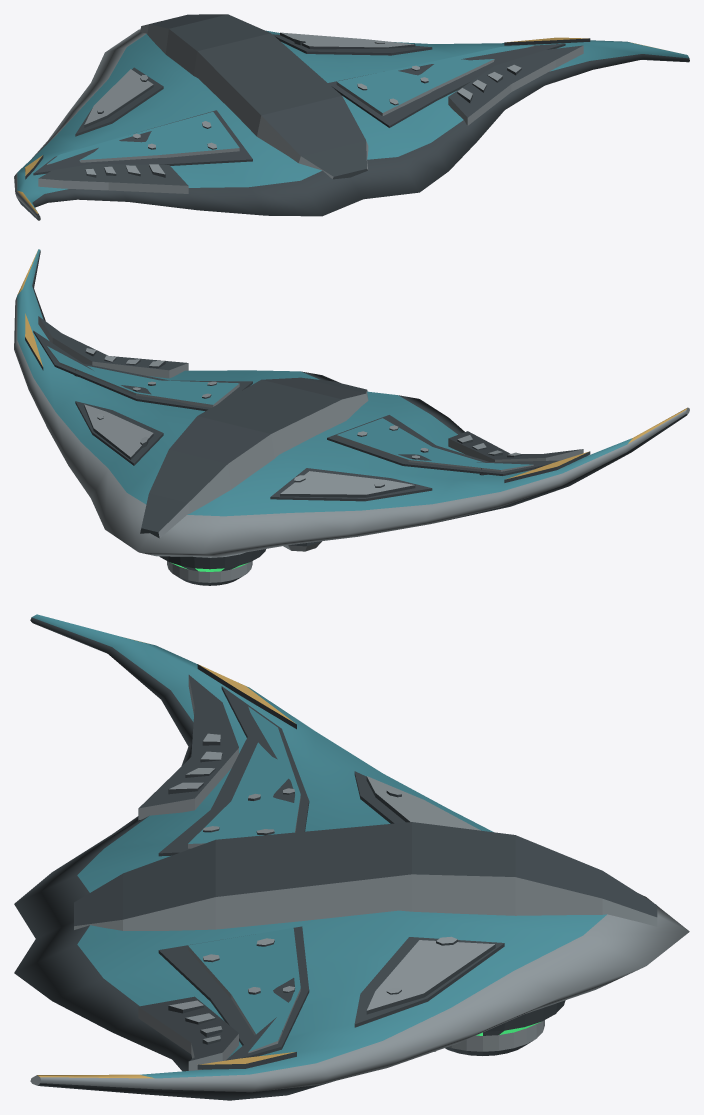
The model's file is close.glb.
3 renders of one model, top to bottom at view 1: azimuth 30°, elevation 25°; view 2: azimuth 150°, elevation 25°; view 3: azimuth 270°, elevation 25°, orthographic. The views are drawn at different scales.
Visible parts, largest first — view 1: Skat; view 2: Skat; view 3: Skat.
Part boxes in pixels (x1,y1,x2,y2): Skat: (14,14,689,220); Skat: (14,249,689,585); Skat: (14,614,689,1100).
Size of the model in its own units: 2 by 0.386 by 1.24.
